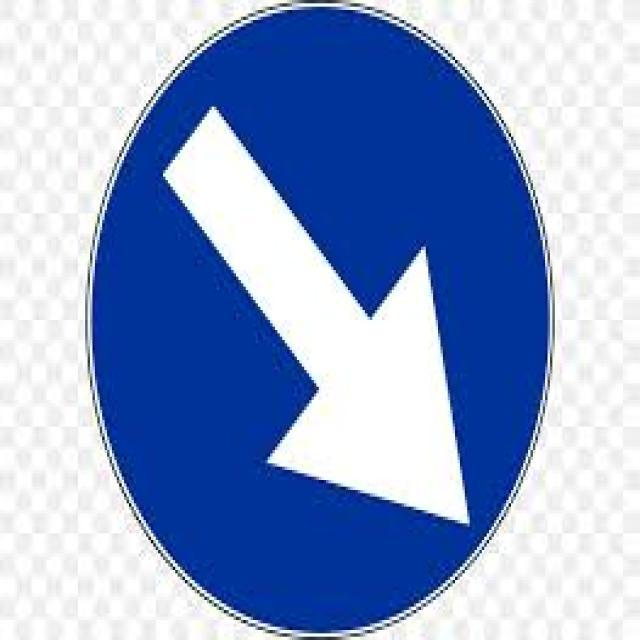compulsary keep right: (88, 16, 553, 620)
